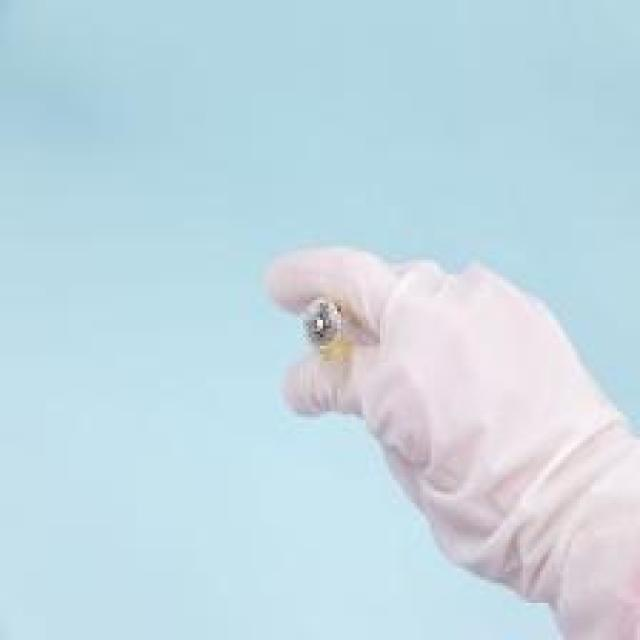syringe: (272, 287, 375, 387)
